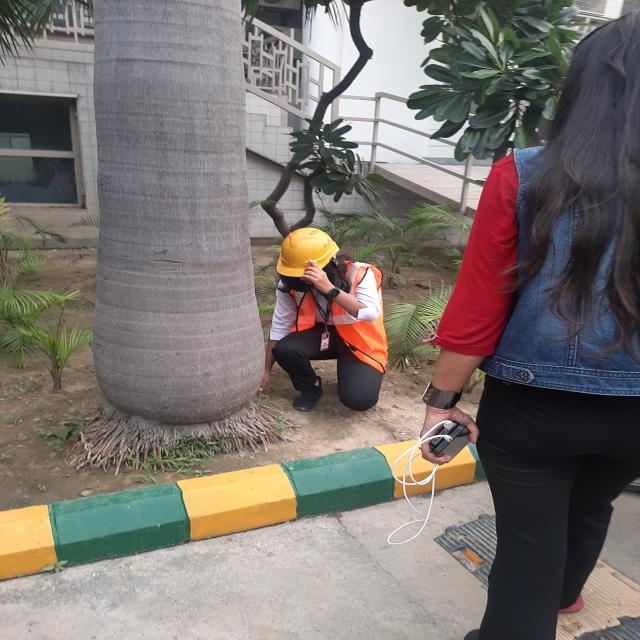safe: (263, 225, 387, 410)
unsafe: (421, 9, 640, 640)
